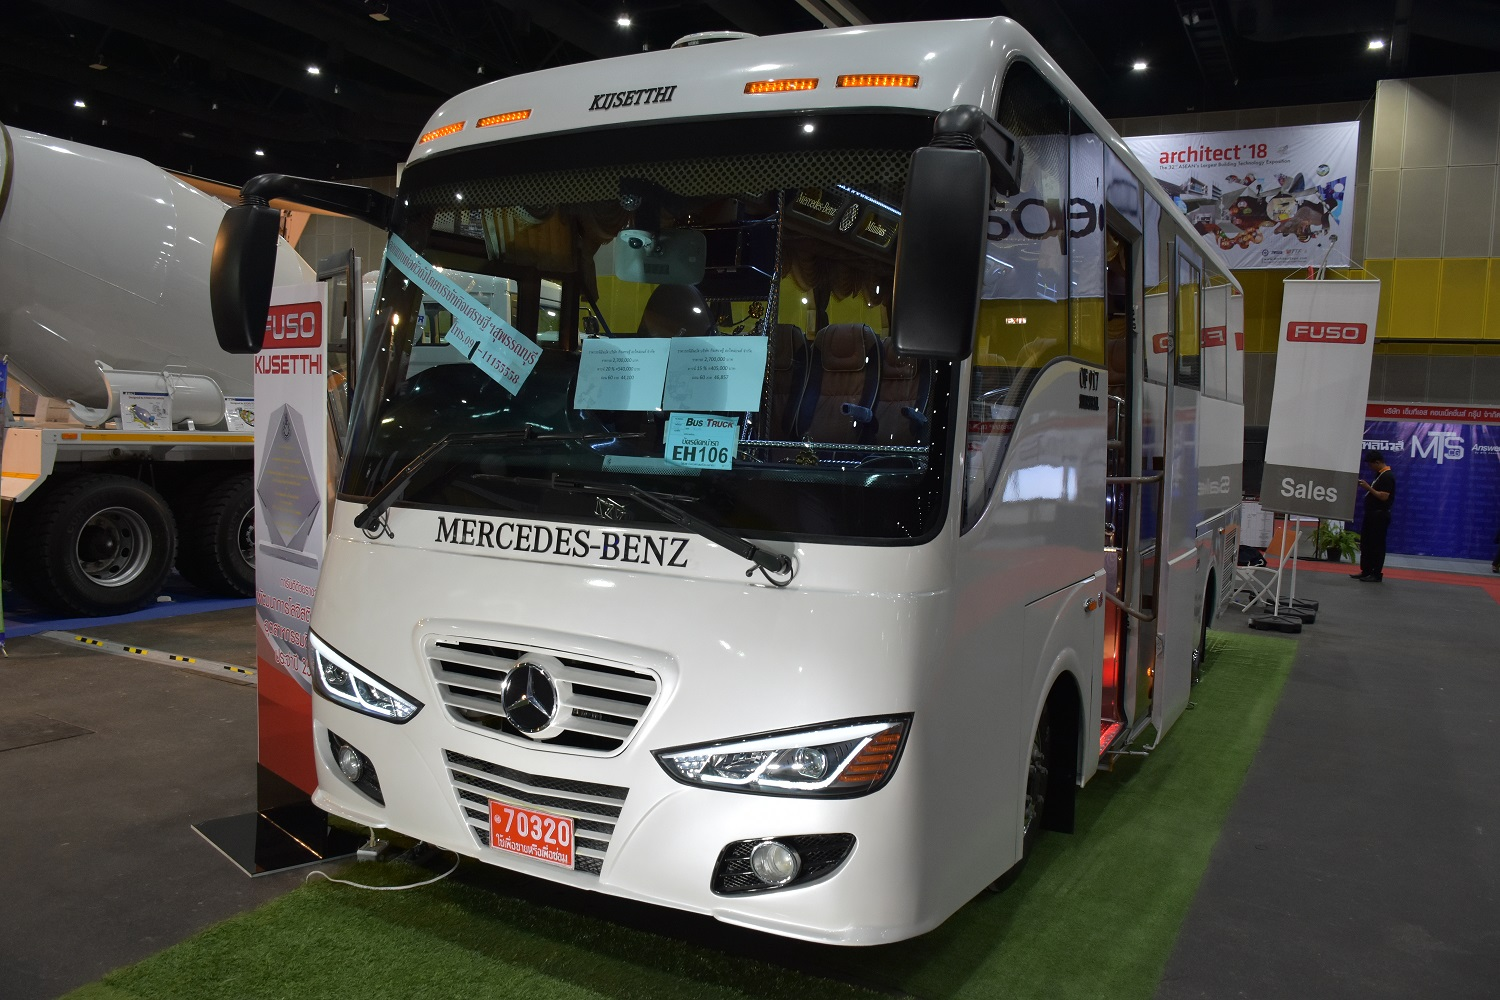bus: (304, 19, 1243, 950)
